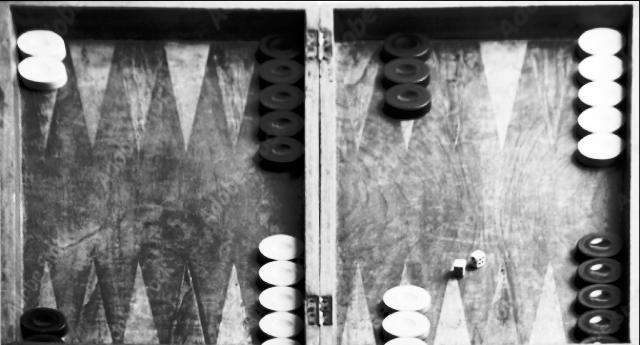bar: (304, 26, 336, 340)
board: (15, 23, 632, 345)
dark_p: (382, 84, 434, 119), (381, 58, 432, 88), (576, 230, 628, 259), (382, 30, 432, 59), (575, 283, 628, 310), (576, 309, 629, 336), (260, 136, 304, 168), (20, 304, 68, 333), (577, 256, 628, 283), (256, 31, 302, 59), (260, 110, 303, 138), (256, 59, 304, 84), (259, 84, 304, 110), (20, 332, 70, 343)
dice: (470, 249, 488, 269), (451, 257, 468, 278)
light_p: (578, 133, 626, 166), (17, 27, 67, 58), (19, 57, 67, 89), (380, 284, 433, 312), (577, 107, 628, 134), (578, 27, 627, 55), (577, 55, 627, 82), (258, 233, 302, 262), (258, 287, 304, 314), (260, 260, 304, 288), (382, 312, 432, 336), (258, 312, 304, 338), (576, 83, 628, 106), (258, 337, 304, 345), (383, 337, 429, 345)
